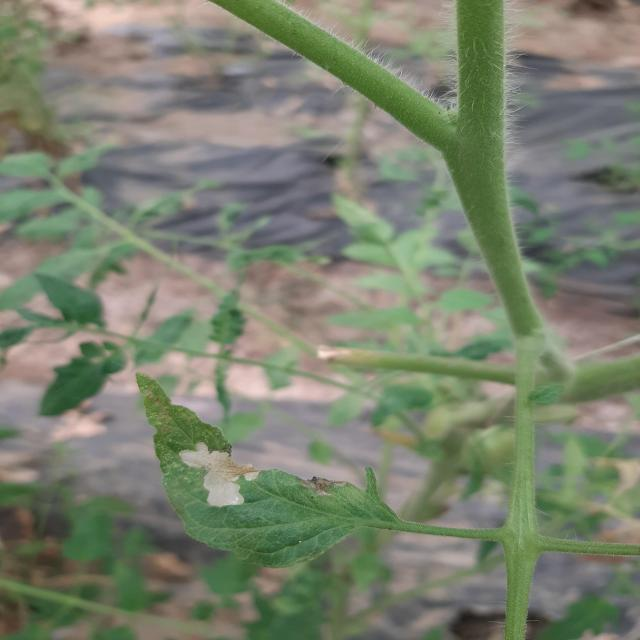Tuta absoluta: (165, 428, 263, 519)
